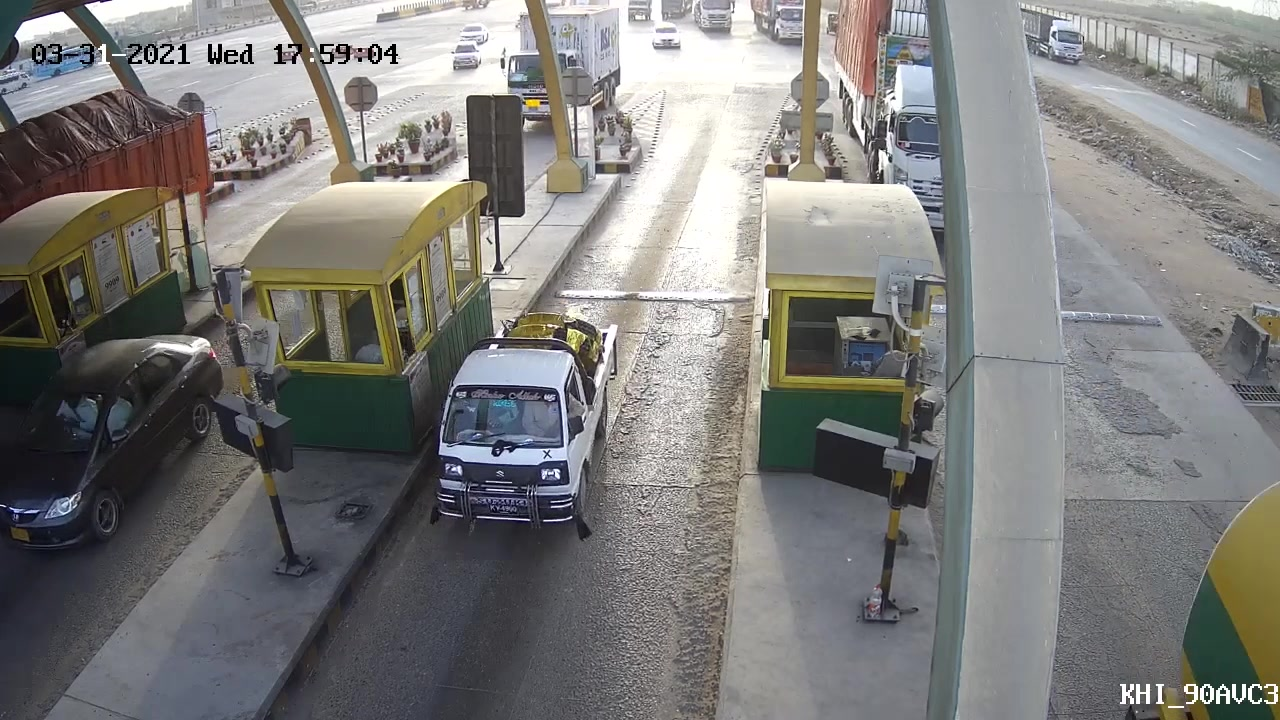F2: (422, 309, 622, 541)
